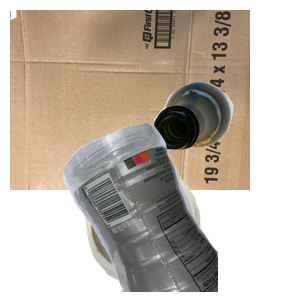cardboard: (10, 10, 250, 190)
glass: (151, 79, 300, 221)
plastic: (60, 120, 300, 300)
trash: (83, 163, 276, 300)
